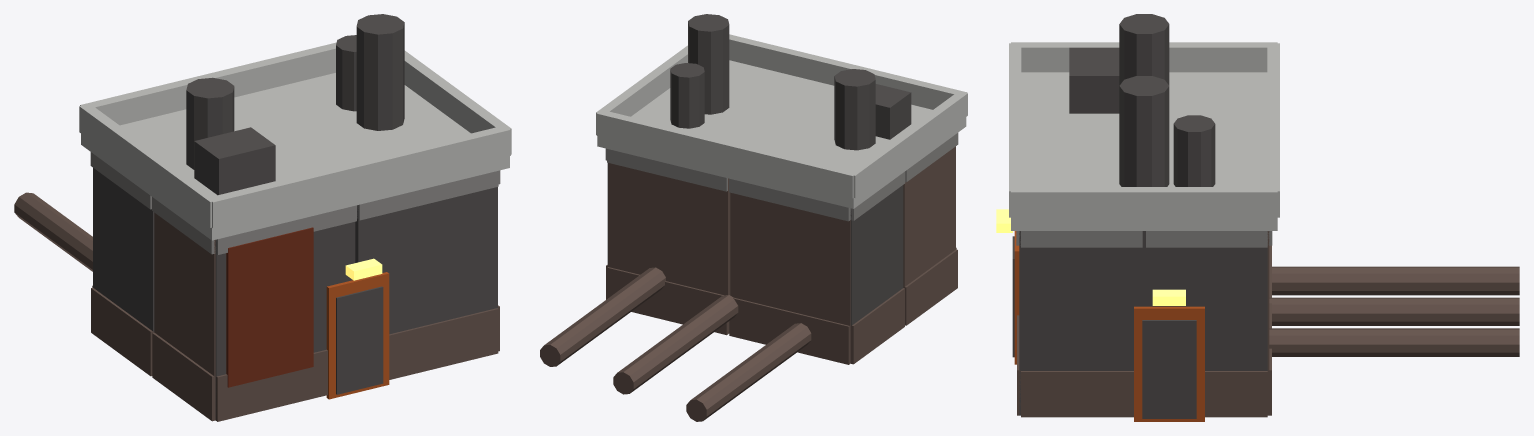
File: B_pump_house.glb
3 renders of one model, left to right at view 1: azimuth 30°, elevation 25°; view 2: azimuth 150°, elevation 25°; view 3: azimuth 270°, elevation 25°, orthographic. The views are drawn at different scales.
Visible parts, largest first — view 1: Cube.033, Cube.003, Cube.024, Cube.034, Cube.012, Cube.015, Cube.035, Cylinder.003, Cube.004, Cube.036, Cube, Cube.028 (+14 smaller); view 2: Cube.033, Cube.009, Cube.006, Cube.035, Cube.015, Cube.012, Cube.034, Cube.007, Cylinder.002, Cube.036, Cylinder.001, Cylinder (+12 smaller); view 3: Cube.033, Cube.018, Cube.021, Cube.037, Cylinder, Cylinder.002, Cylinder.001, Cylinder.003, Cube.031, Cube.019, Cube.036, Cube.038 (+11 smaller).
Part boxes in pixels (box(x1,y1,x2,y2)): Cube.033: box(81, 73, 509, 240); Cube.003: box(355, 187, 497, 334); Cube.024: box(226, 227, 313, 387); Cube.034: box(207, 125, 510, 228); Cube.012: box(154, 212, 215, 419); Cube.015: box(93, 168, 154, 331); Cube.035: box(80, 42, 336, 125); Cylinder.003: box(356, 14, 404, 130); Cube.004: box(389, 308, 498, 379); Cube.036: box(79, 104, 216, 227); Cube: box(215, 222, 355, 420); Cube.028: box(336, 286, 383, 394); Cube.033: box(597, 60, 966, 208); Cube.009: box(608, 163, 730, 333); Cube.006: box(730, 192, 850, 335); Cube.035: box(596, 110, 854, 198); Cube.015: box(850, 185, 903, 330); Cube.012: box(903, 146, 955, 286); Cube.034: box(729, 34, 967, 109); Cube.007: box(729, 297, 850, 364); Cylinder.002: box(540, 267, 665, 366); Cube.036: box(847, 91, 967, 197); Cylinder.001: box(613, 295, 738, 394); Cylinder: box(686, 323, 811, 421); Cube.033: box(1011, 72, 1277, 230); Cube.018: box(1021, 247, 1142, 370); Cube.021: box(1146, 247, 1267, 370); Cube.037: box(1011, 187, 1277, 218); Cylinder: box(1272, 266, 1519, 295); Cylinder.002: box(1269, 328, 1519, 356); Cylinder.001: box(1269, 297, 1519, 325); Cylinder.003: box(1119, 76, 1169, 186); Cube.031: box(1142, 320, 1196, 418); Cube.019: box(1021, 371, 1133, 417); Cube.036: box(1011, 42, 1277, 72); Cube.038: box(1069, 47, 1119, 113).
Size of the model in its own units: 8.8 by 8.1 by 12.55.
